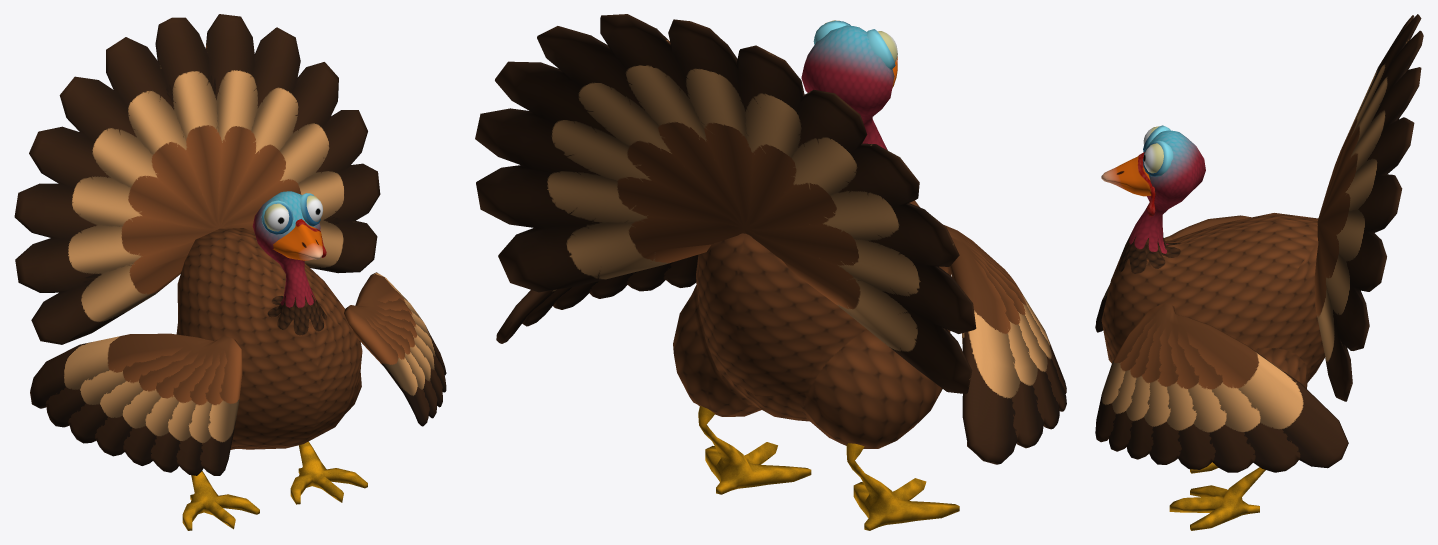
File: DindonFINAL.fbx
The picture shows the model from 3 angles, left to right: view 1: azimuth 30°, elevation 25°; view 2: azimuth 150°, elevation 25°; view 3: azimuth 270°, elevation 25°; orthographic projection. The views are drawn at different scales.
Visible parts, largest first — view 1: Dinde_Queue, Dinde_Corps, Dinde_Aile_Droit, Dinde_Aile_Gauche, Dinde_Oeil_Droit; view 2: Dinde_Queue, Dinde_Corps, Dinde_Aile_Droit, Dinde_Aile_Gauche; view 3: Dinde_Corps, Dinde_Aile_Gauche, Dinde_Queue, Dinde_Aile_Droit, Dinde_Oeil_Gauche.
Boxes of the visible parts, x1,y1,x2,y2 form: Dinde_Queue: [14, 14, 380, 344]; Dinde_Corps: [176, 191, 367, 530]; Dinde_Aile_Droit: [30, 333, 242, 475]; Dinde_Aile_Gauche: [344, 272, 446, 426]; Dinde_Oeil_Droit: [264, 203, 289, 231]; Dinde_Queue: [475, 14, 976, 393]; Dinde_Corps: [673, 20, 959, 530]; Dinde_Aile_Droit: [944, 225, 1066, 464]; Dinde_Aile_Gauche: [496, 255, 698, 343]; Dinde_Corps: [1101, 125, 1324, 530]; Dinde_Aile_Gauche: [1095, 303, 1348, 472]; Dinde_Queue: [1314, 14, 1423, 401]; Dinde_Aile_Droit: [1095, 215, 1250, 332]; Dinde_Oeil_Gauche: [1143, 143, 1163, 173].
Bounding box in the file's own units: 90.28 × 96.68 × 63.95.
1 material, 1 textured.
